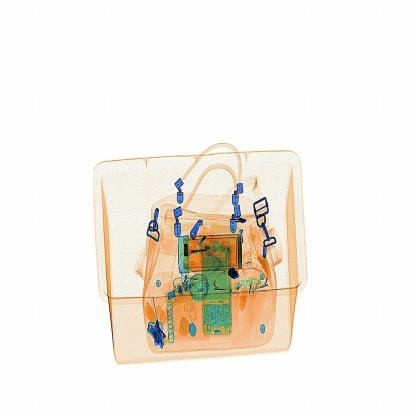knife: (220, 265, 246, 287)
